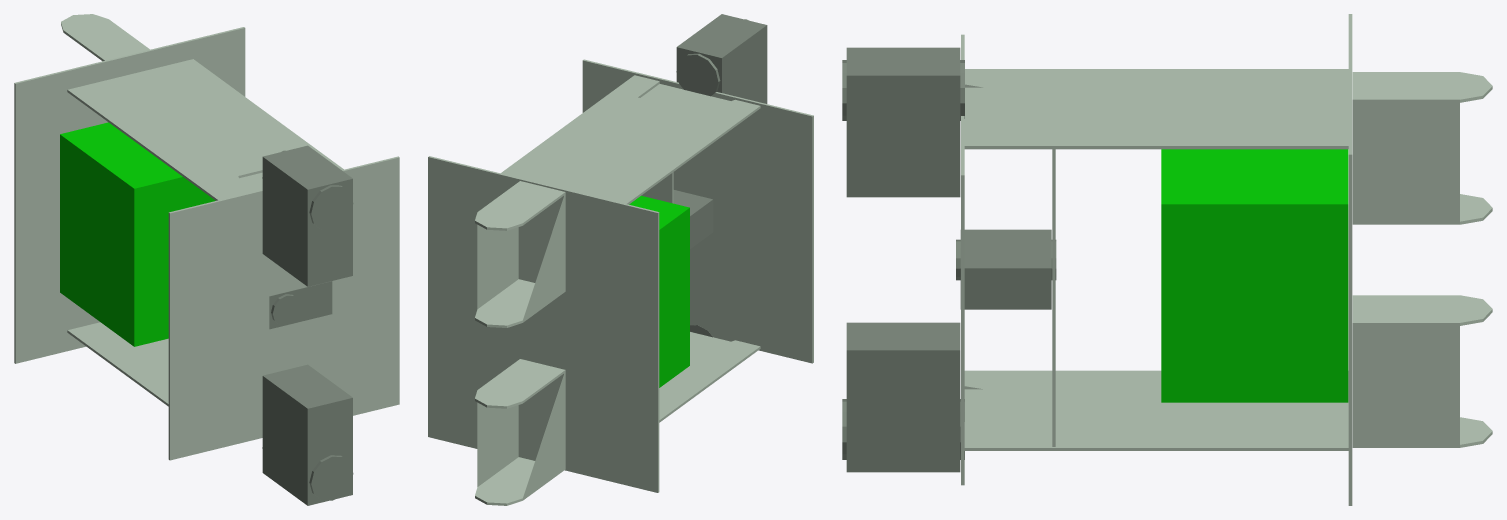
3 views of the same model, side by side, from view 1: azimuth 30°, elevation 25°; view 2: azimuth 150°, elevation 25°; view 3: azimuth 270°, elevation 25° (orthographic). The views are drawn at different scales.
Bounding box in the file's own units: 0.146 × 0.192 × 0.2853.
